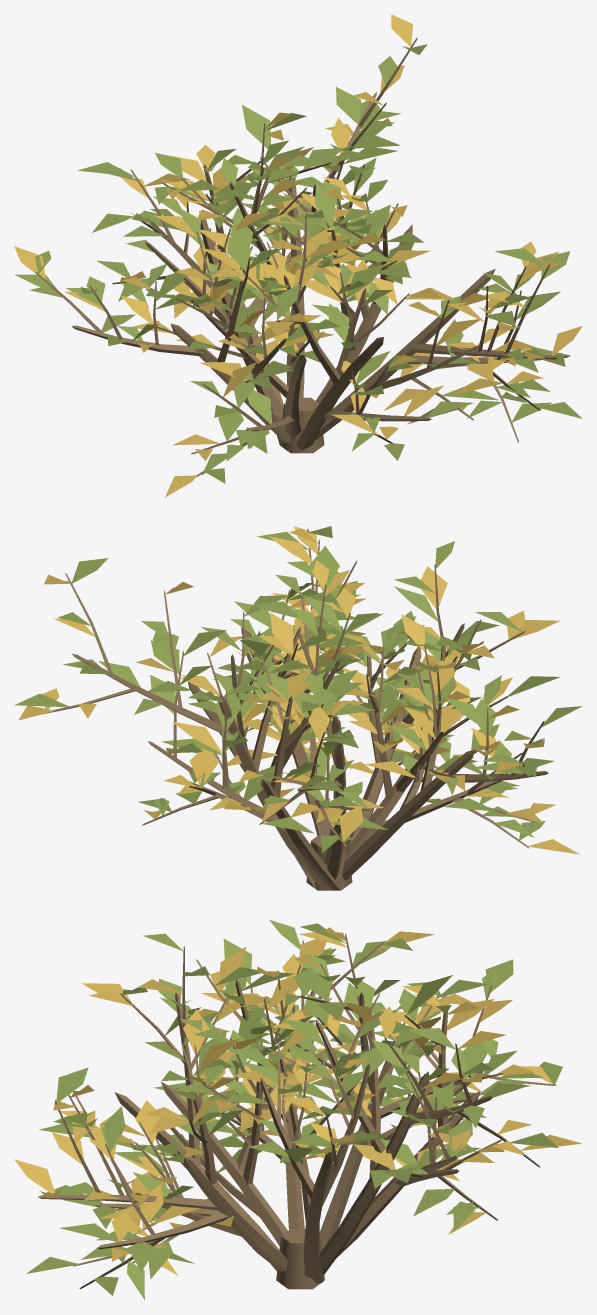
The model's file is shrub_dry_a.glb.
The picture shows the model from 3 angles, top to bottom: view 1: azimuth 30°, elevation 25°; view 2: azimuth 150°, elevation 25°; view 3: azimuth 270°, elevation 25°; orthographic projection. The views are drawn at different scales.
Visible parts, largest first — view 1: shrub_dry_a; view 2: shrub_dry_a; view 3: shrub_dry_a.
Part boxes in pixels (x1,y1,x2,y2): shrub_dry_a: [14, 14, 582, 497]; shrub_dry_a: [14, 526, 582, 890]; shrub_dry_a: [14, 919, 581, 1299].
Size of the model in its own units: 1.11 by 0.8034 by 1.16.
